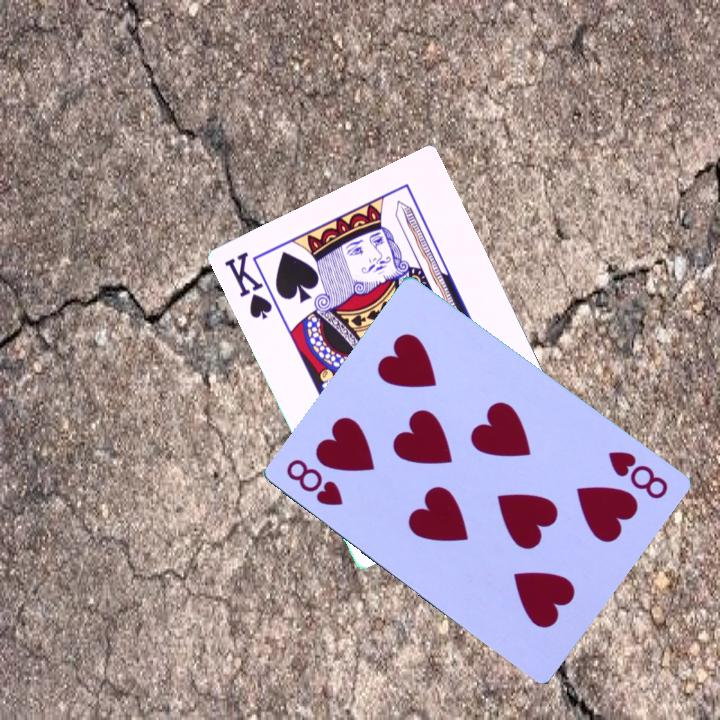8h: (605, 447, 672, 502), (283, 455, 347, 509)
Ks: (220, 248, 275, 322)
